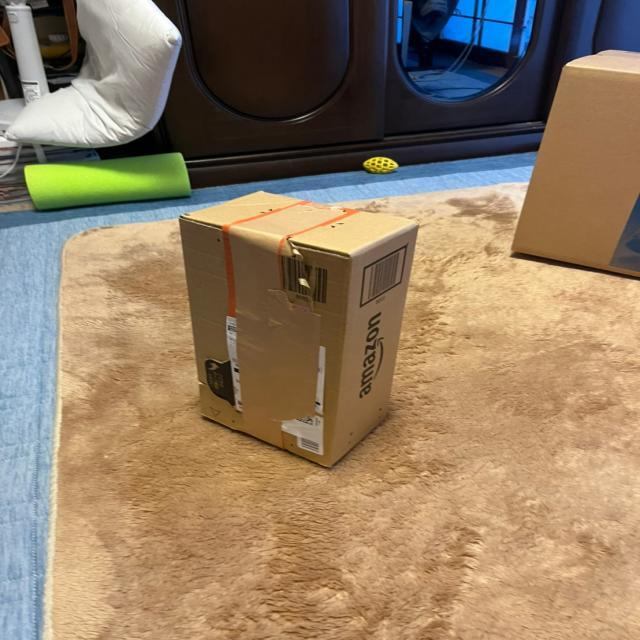-: (173, 187, 426, 477)
